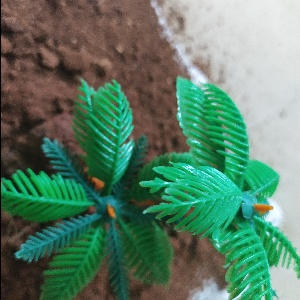plant: (8, 72, 292, 300)
